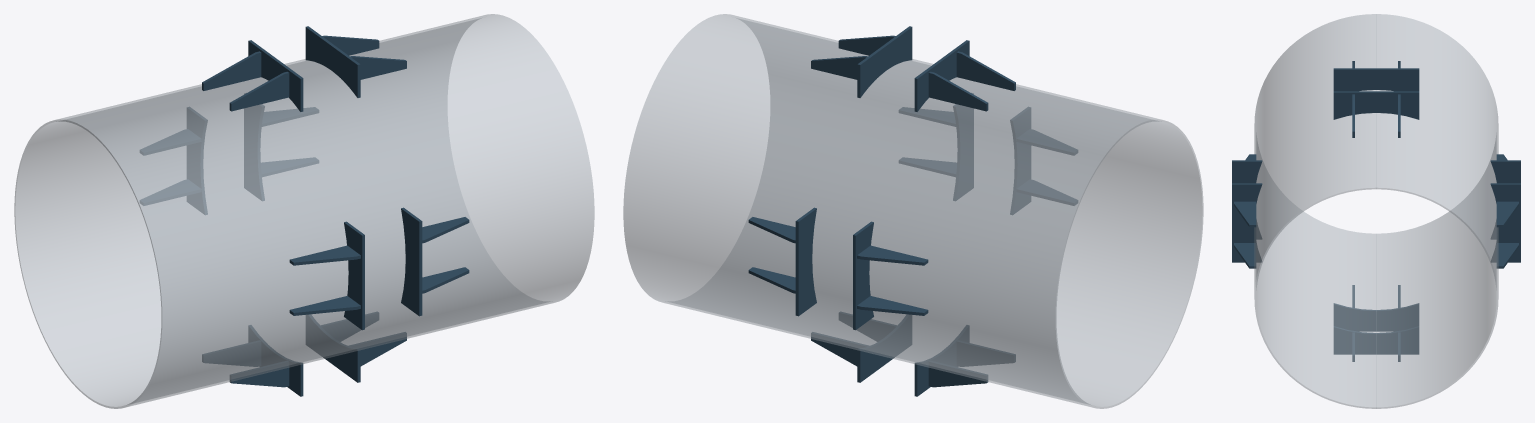
File: TS-661.00.00-14-opora-dn1420-ris1.glb
3 views of the same model, side by side, from view 1: azimuth 30°, elevation 25°; view 2: azimuth 150°, elevation 25°; view 3: azimuth 270°, elevation 25° (orthographic). The views are drawn at different scales.
Visible parts, largest first — view 1: truba, upor_7, upor_1, upor_13, upor_19, upor_10, upor_22, upor_4, upor_6, upor_5, upor_17, upor_18 (+13 smaller); view 2: truba, upor_19, upor_1, upor_13, upor_7, upor_22, upor_10, upor_4, upor_5, upor_6, upor_18, upor_17 (+13 smaller); view 3: truba, upor_1, upor_13, upor_4, upor_16, upor_7, upor_19, upor_10, upor_22, upor_8, upor_21, upor_9 (+1 smaller).
Part boxes in pixels (x1=…): truba: x1=14, y1=14, x2=594, y2=408; upor_7: x1=401, y1=207, x2=422, y2=316; upor_1: x1=305, y1=26, x2=360, y2=97; upor_13: x1=306, y1=314, x2=360, y2=382; upor_19: x1=244, y1=93, x2=264, y2=200; upor_10: x1=344, y1=221, x2=364, y2=330; upor_22: x1=187, y1=107, x2=207, y2=214; upor_4: x1=248, y1=40, x2=303, y2=111; upor_6: x1=229, y1=71, x2=289, y2=111; upor_5: x1=202, y1=51, x2=261, y2=90; upor_17: x1=229, y1=361, x2=289, y2=387; upor_18: x1=202, y1=340, x2=260, y2=366; truba: x1=623, y1=14, x2=1203, y2=408; upor_19: x1=795, y1=207, x2=816, y2=316; upor_1: x1=857, y1=26, x2=912, y2=97; upor_13: x1=857, y1=314, x2=911, y2=382; upor_7: x1=953, y1=93, x2=973, y2=200; upor_22: x1=853, y1=221, x2=873, y2=330; upor_10: x1=1010, y1=107, x2=1030, y2=214; upor_4: x1=914, y1=40, x2=969, y2=111; upor_5: x1=928, y1=71, x2=988, y2=111; upor_6: x1=956, y1=51, x2=1015, y2=90; upor_18: x1=928, y1=361, x2=988, y2=387; upor_17: x1=957, y1=340, x2=1015, y2=366; truba: x1=1254, y1=14, x2=1498, y2=408; upor_1: x1=1333, y1=91, x2=1419, y2=119; upor_13: x1=1333, y1=326, x2=1419, y2=354; upor_4: x1=1333, y1=68, x2=1419, y2=91; upor_16: x1=1333, y1=303, x2=1419, y2=331; upor_7: x1=1232, y1=183, x2=1262, y2=262; upor_19: x1=1490, y1=183, x2=1520, y2=262; upor_10: x1=1232, y1=160, x2=1262, y2=239; upor_22: x1=1490, y1=160, x2=1520, y2=239; upor_8: x1=1234, y1=201, x2=1256, y2=227; upor_21: x1=1496, y1=201, x2=1518, y2=227; upor_9: x1=1234, y1=243, x2=1256, y2=268.
Bounding box in the file's own units: 2392 × 1681 × 1681.
